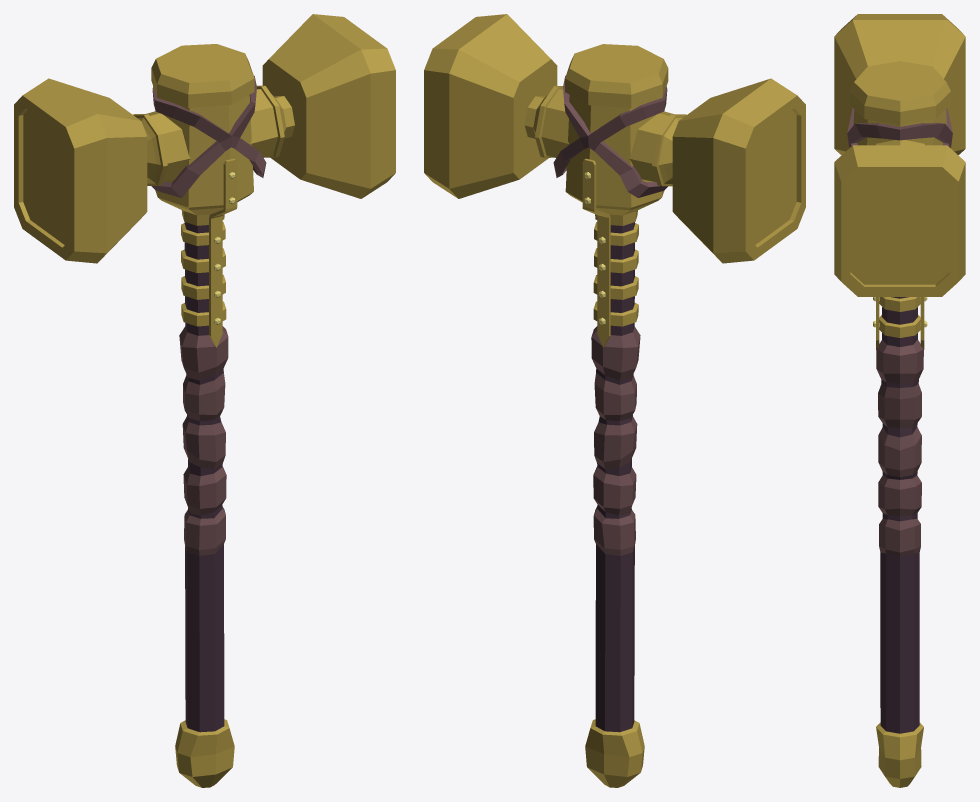
The model's file is hammer_double_golden.glb.
The picture shows the model from 3 angles, left to right: view 1: azimuth 30°, elevation 25°; view 2: azimuth 150°, elevation 25°; view 3: azimuth 270°, elevation 25°; orthographic projection. The views are drawn at different scales.
Visible parts, largest first — view 1: Hammer_Double_Golden; view 2: Hammer_Double_Golden; view 3: Hammer_Double_Golden.
Boxes of the visible parts, left/top/right/bottom form: Hammer_Double_Golden: left=14, top=14, right=395, bottom=787; Hammer_Double_Golden: left=424, top=14, right=805, bottom=787; Hammer_Double_Golden: left=834, top=14, right=965, bottom=787.
Bounding box in the file's own units: 1.18 × 2.53 × 0.4291.
